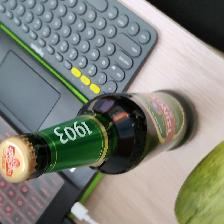gua: (183, 157, 224, 218)
